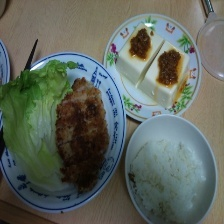rice: (129, 136, 215, 224)
